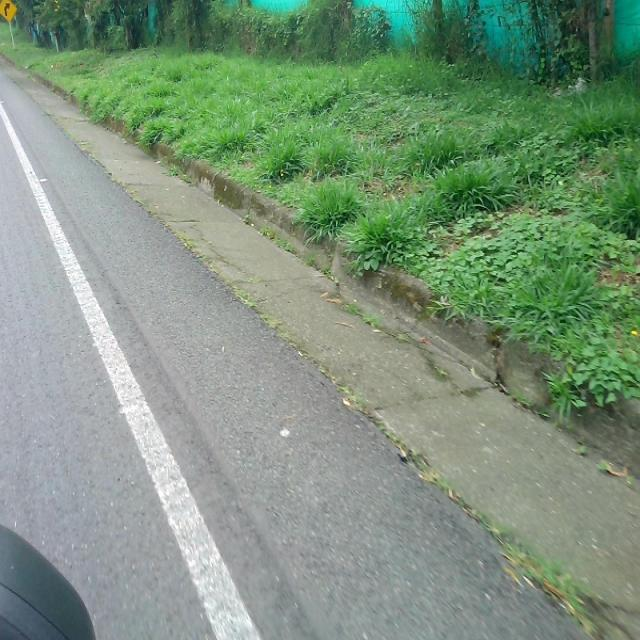DITCH: (2, 53, 637, 638)
